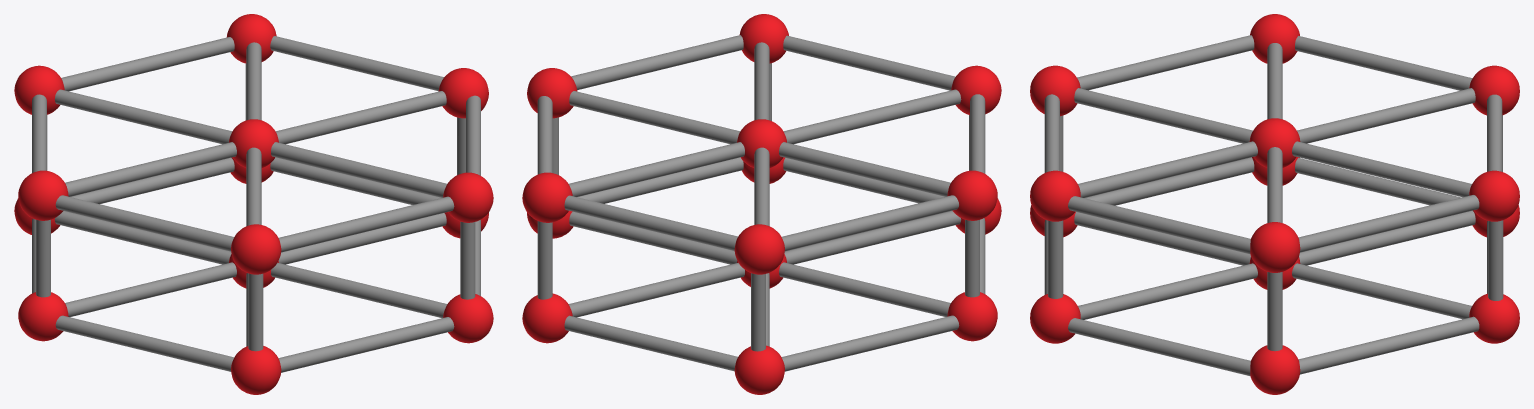
3 renders of one model, left to right at view 1: azimuth 30°, elevation 25°; view 2: azimuth 150°, elevation 25°; view 3: azimuth 270°, elevation 25°, orthographic.
Visible parts, largest first — view 1: Цилиндр_Node (×20), Сферы_Node (×11); view 2: Цилиндр_Node (×19), Сферы_Node (×13); view 3: Цилиндр_Node (×18), Сферы_Node (×14).
Boxes of the visible parts, <box> form: Цилиндр_Node (×20): <box>32,36,480,372</box>; Сферы_Node (×11): <box>14,14,493,394</box>; Цилиндр_Node (×19): <box>537,35,985,371</box>; Сферы_Node (×13): <box>522,14,1001,394</box>; Цилиндр_Node (×18): <box>1044,35,1503,375</box>; Сферы_Node (×14): <box>1030,14,1519,394</box>.
Bounding box in the file's own units: 4.19 × 1.43 × 3.77.
25 materials, 1 textured.
